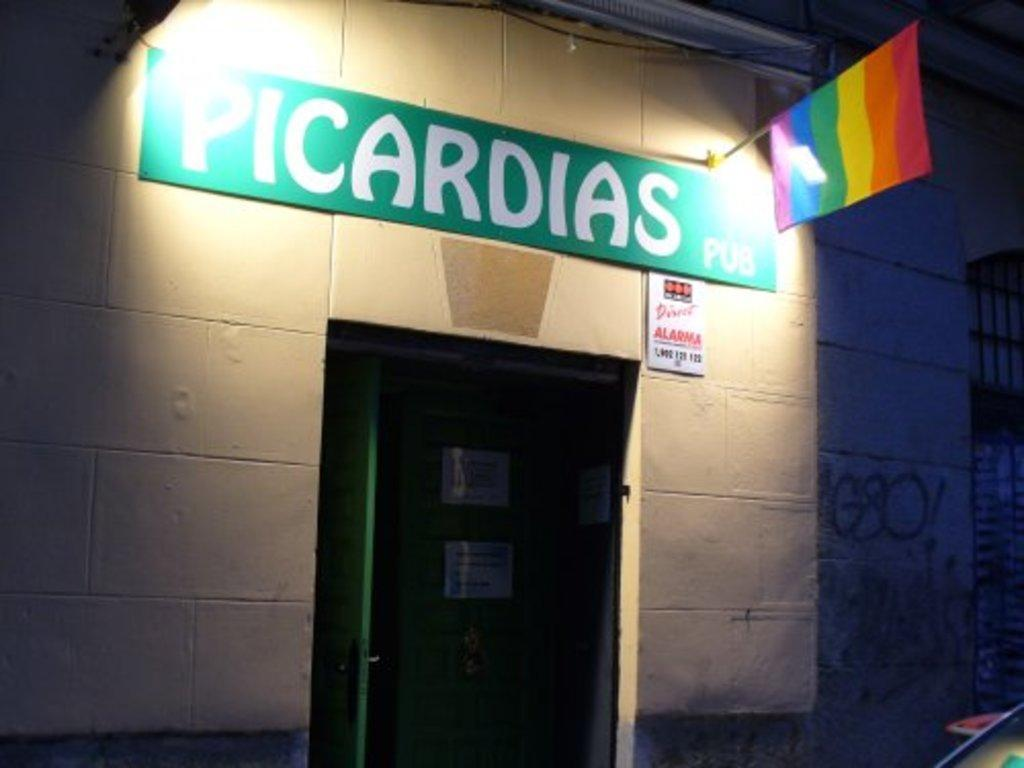door: (376, 396, 562, 768)
